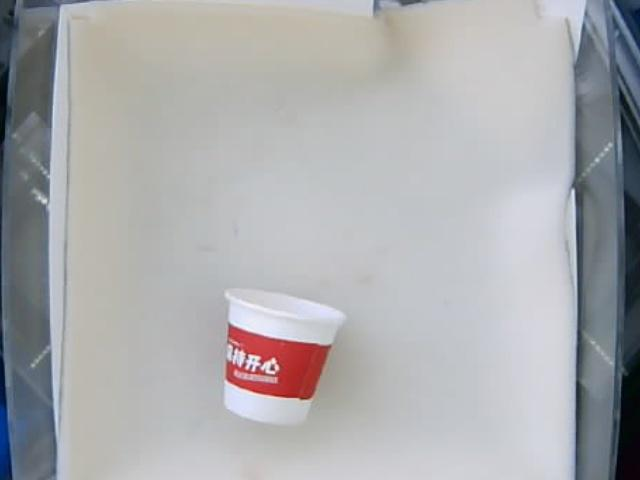Cup: (217, 285, 346, 424)
